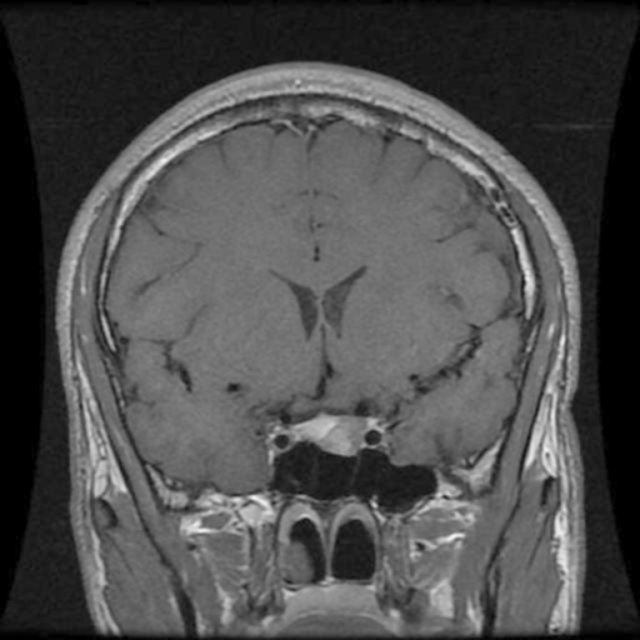no tumor: (294, 410, 380, 462)
